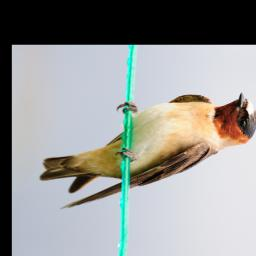Swallow: (35, 76, 256, 225)
